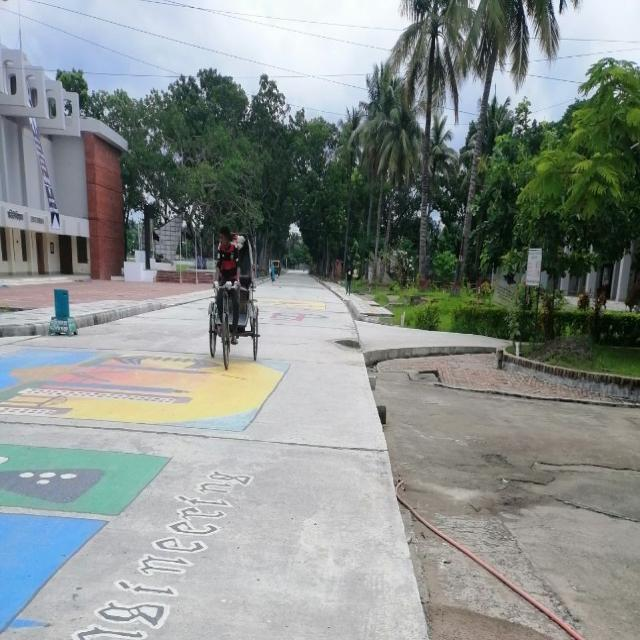Rickshaw: (206, 225, 263, 375)
